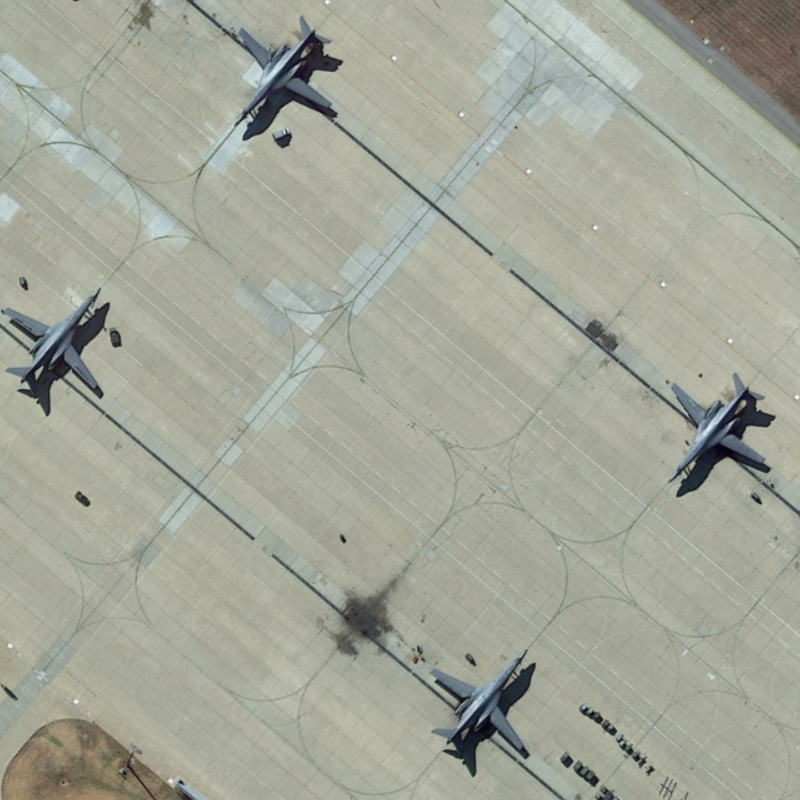A10: (661, 367, 781, 496), (426, 637, 542, 769), (226, 16, 347, 137), (3, 280, 116, 406)
